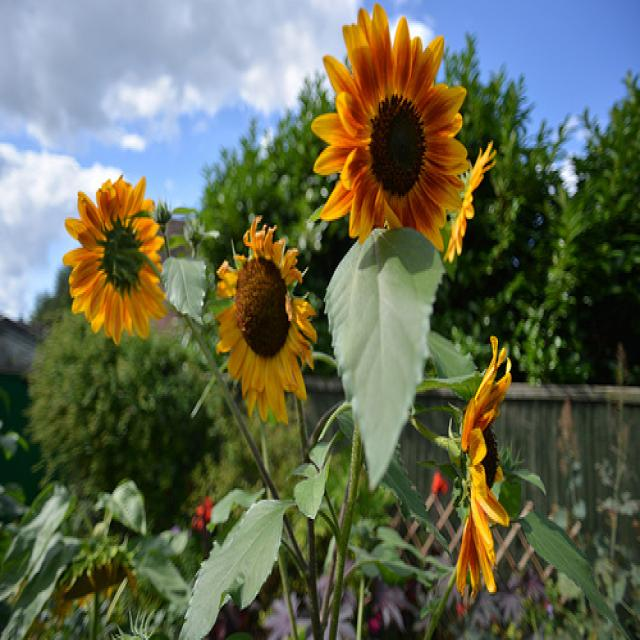sunflower: (298, 4, 483, 251), (443, 340, 525, 604), (212, 229, 316, 418), (62, 170, 172, 342)
